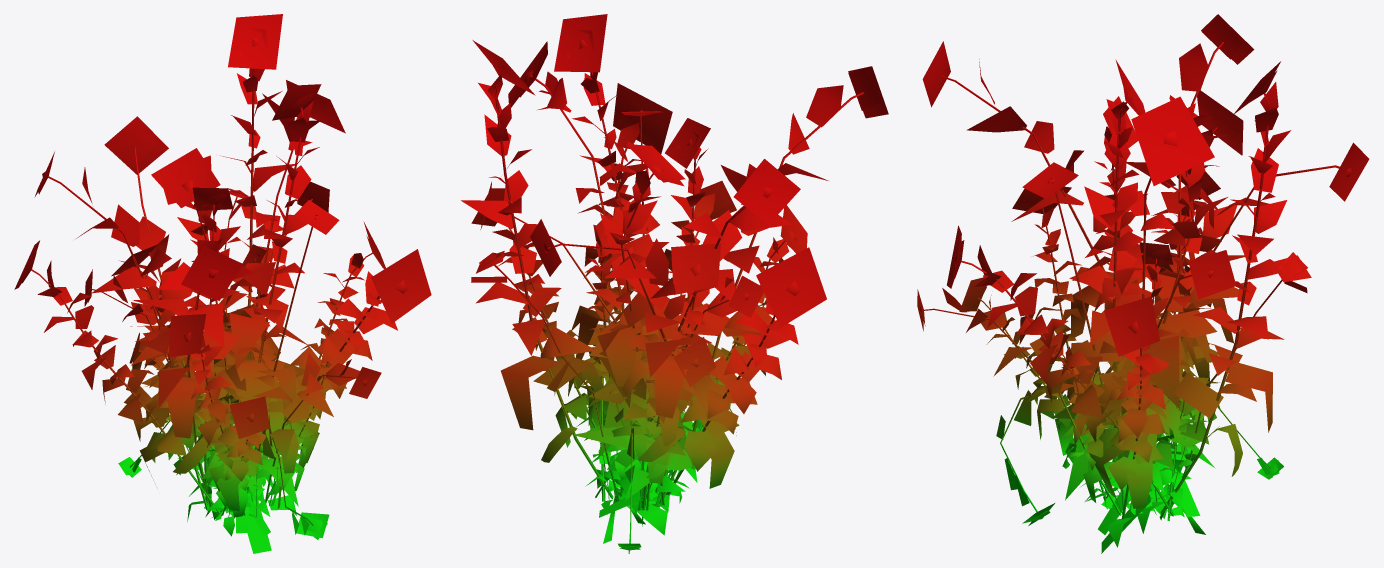
Rendered from Crownbeard_LOD3_Var1_tefoajkr.fbx.
3 renders of one model, left to right at view 1: azimuth 30°, elevation 25°; view 2: azimuth 150°, elevation 25°; view 3: azimuth 270°, elevation 25°, orthographic. The views are drawn at different scales.
Parts seen in each view (by area): view 1: _6ce6_Var1_LOD3; view 2: _6ce6_Var1_LOD3; view 3: _6ce6_Var1_LOD3.
Boxes of the visible parts, box(x1,y1,x2,y2) form: _6ce6_Var1_LOD3: box(14, 14, 431, 553); _6ce6_Var1_LOD3: box(461, 14, 888, 553); _6ce6_Var1_LOD3: box(917, 14, 1369, 553).
Size of the model in its own units: 66.7 by 86.65 by 68.34.
